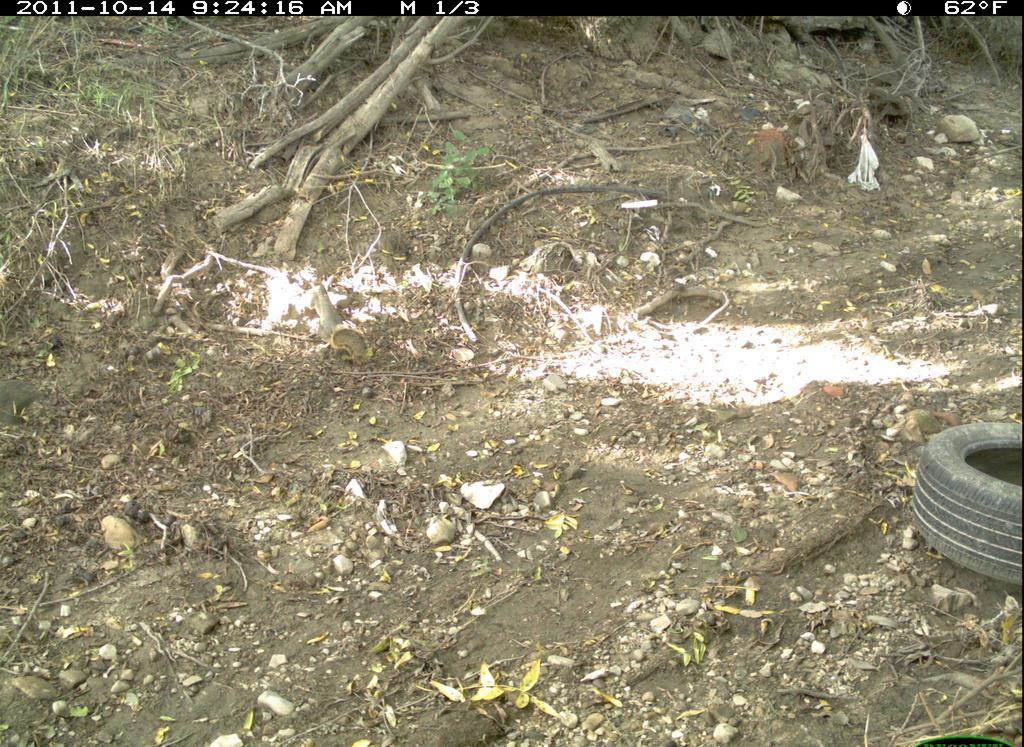squirrel: (305, 295, 372, 395)
